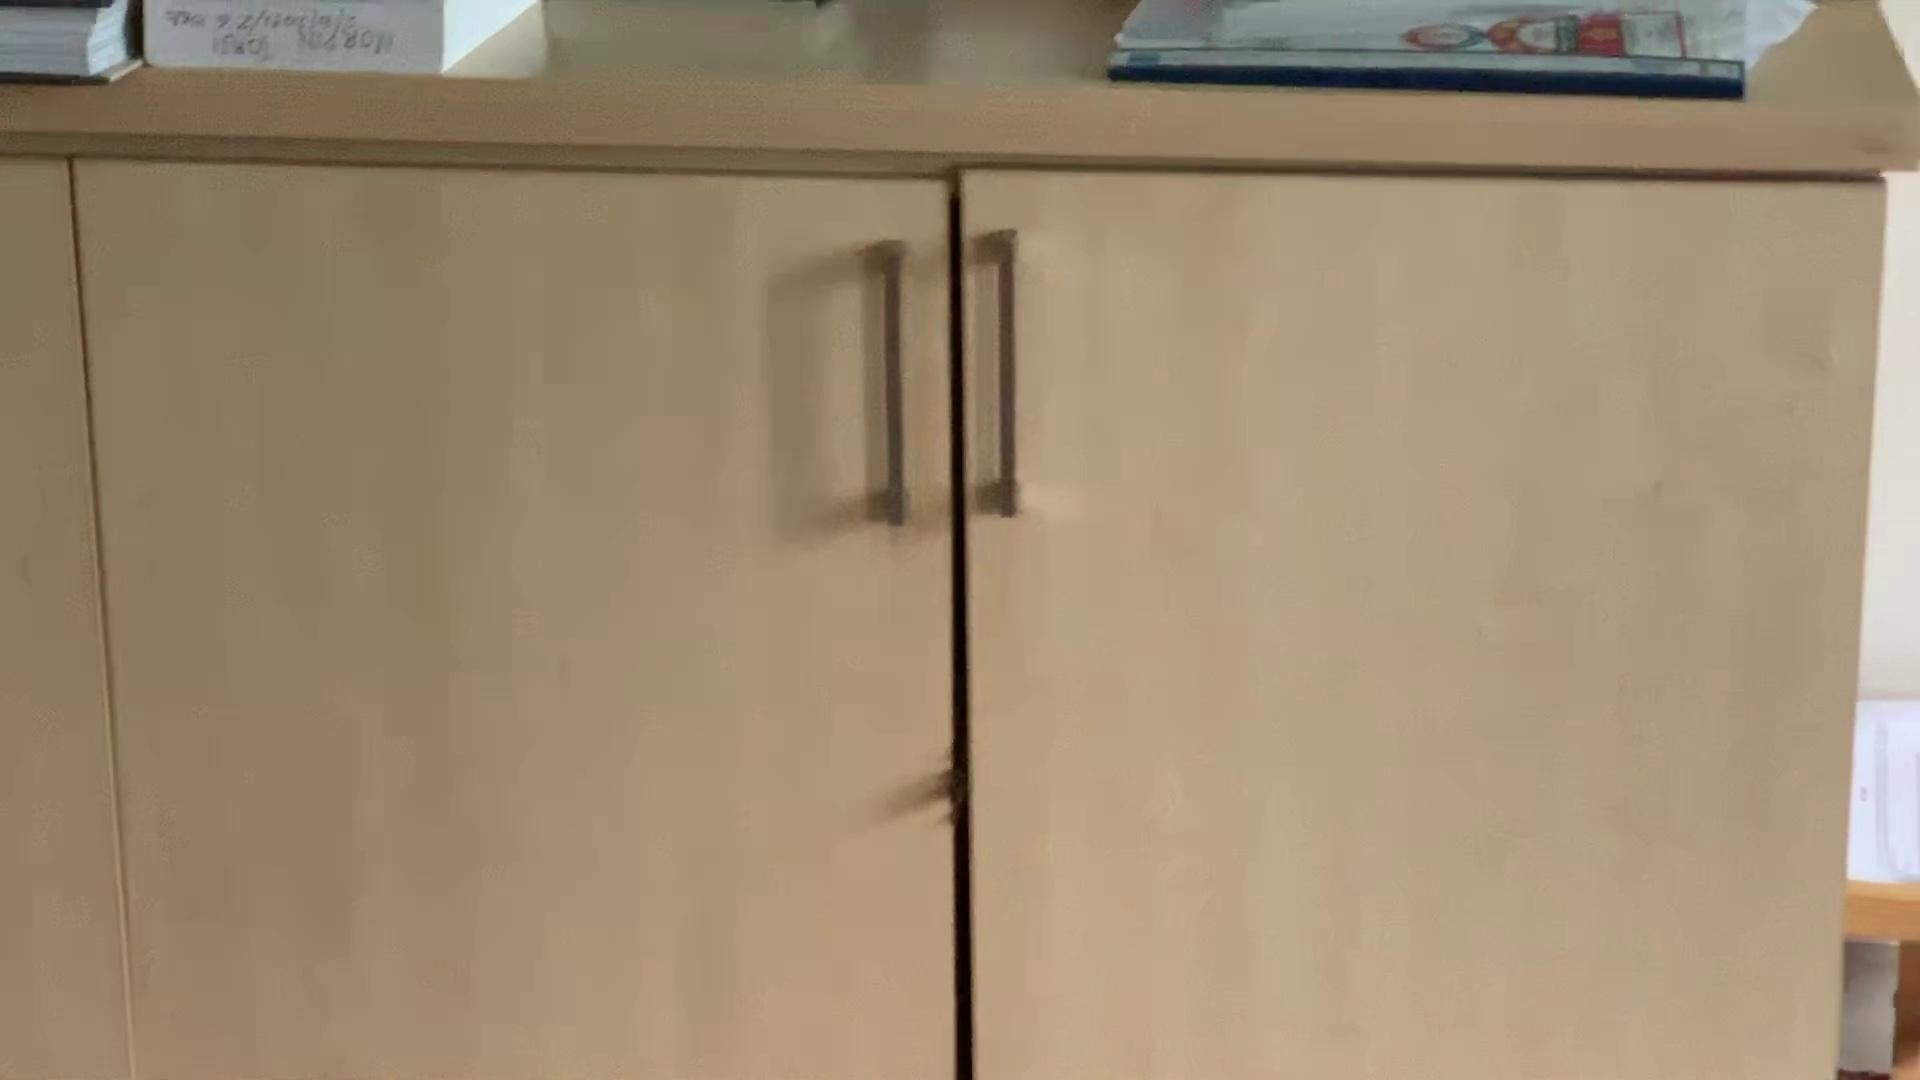cabinet_door: (71, 165, 953, 1080), (960, 164, 1841, 1080)
handle: (837, 240, 930, 539), (973, 227, 1048, 524)
